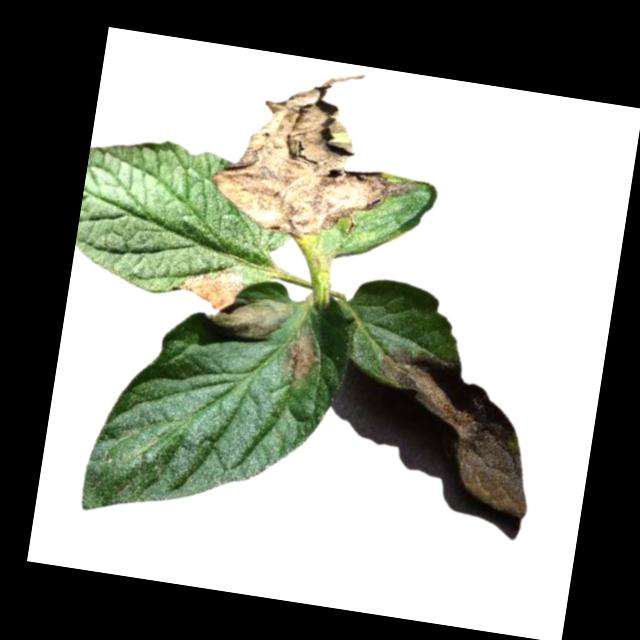Late_blight: (202, 53, 438, 254), (359, 343, 551, 519), (204, 290, 297, 346), (176, 266, 248, 314), (282, 326, 326, 387)
